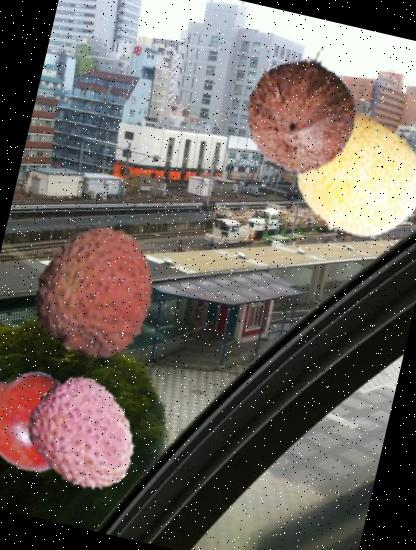Cantaloupe: (279, 101, 416, 257)
Cocos: (228, 44, 374, 190)
Lychee: (16, 212, 178, 374), (14, 366, 153, 506)
Pomegranate: (0, 343, 101, 489)
